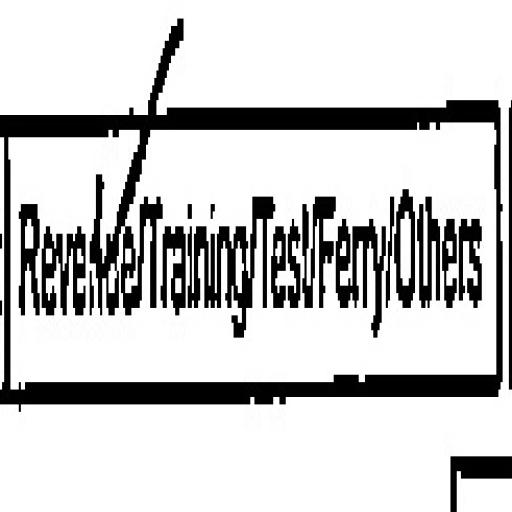check: (16, 83, 144, 473)
